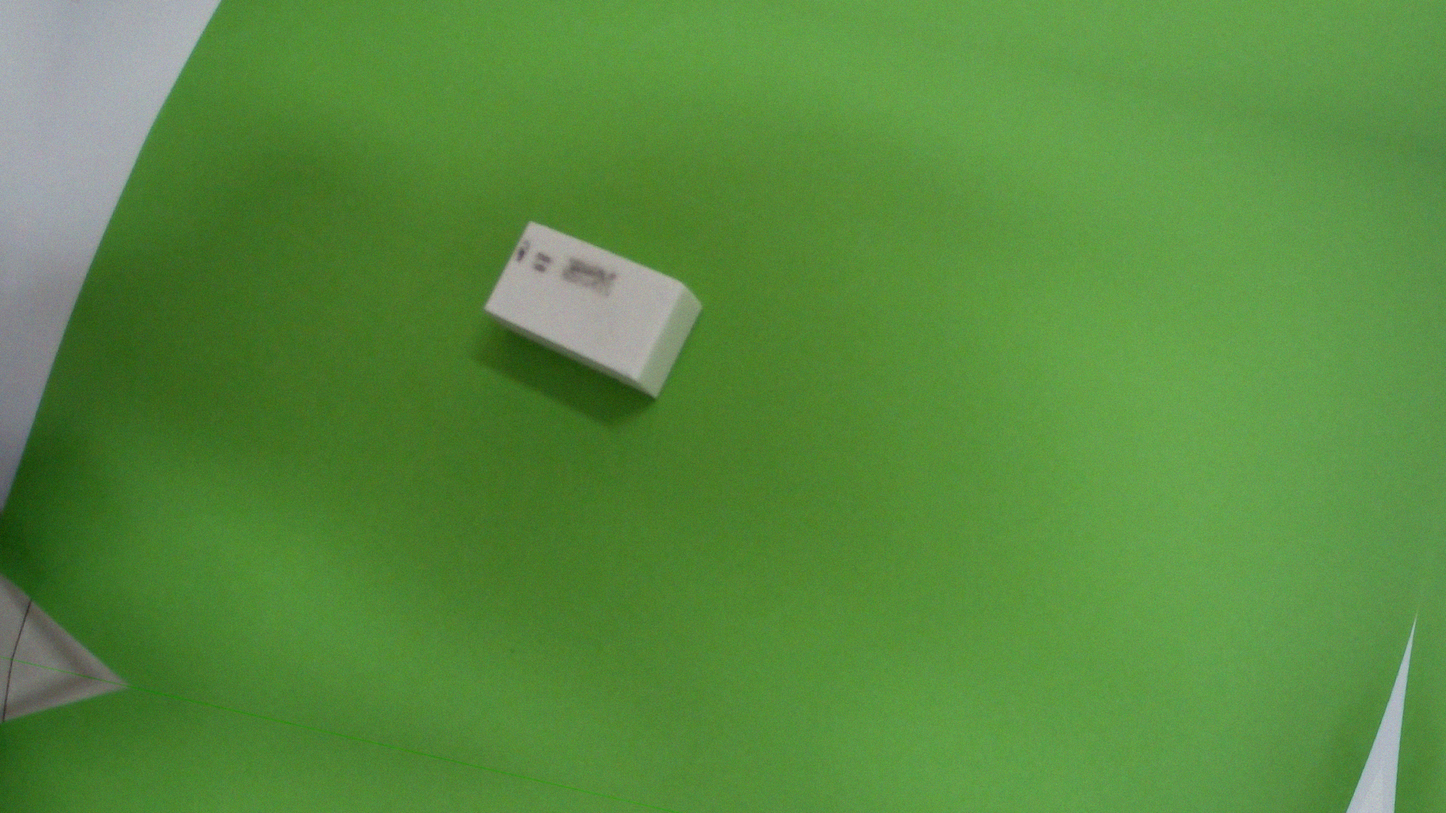gom: (474, 208, 712, 410)
